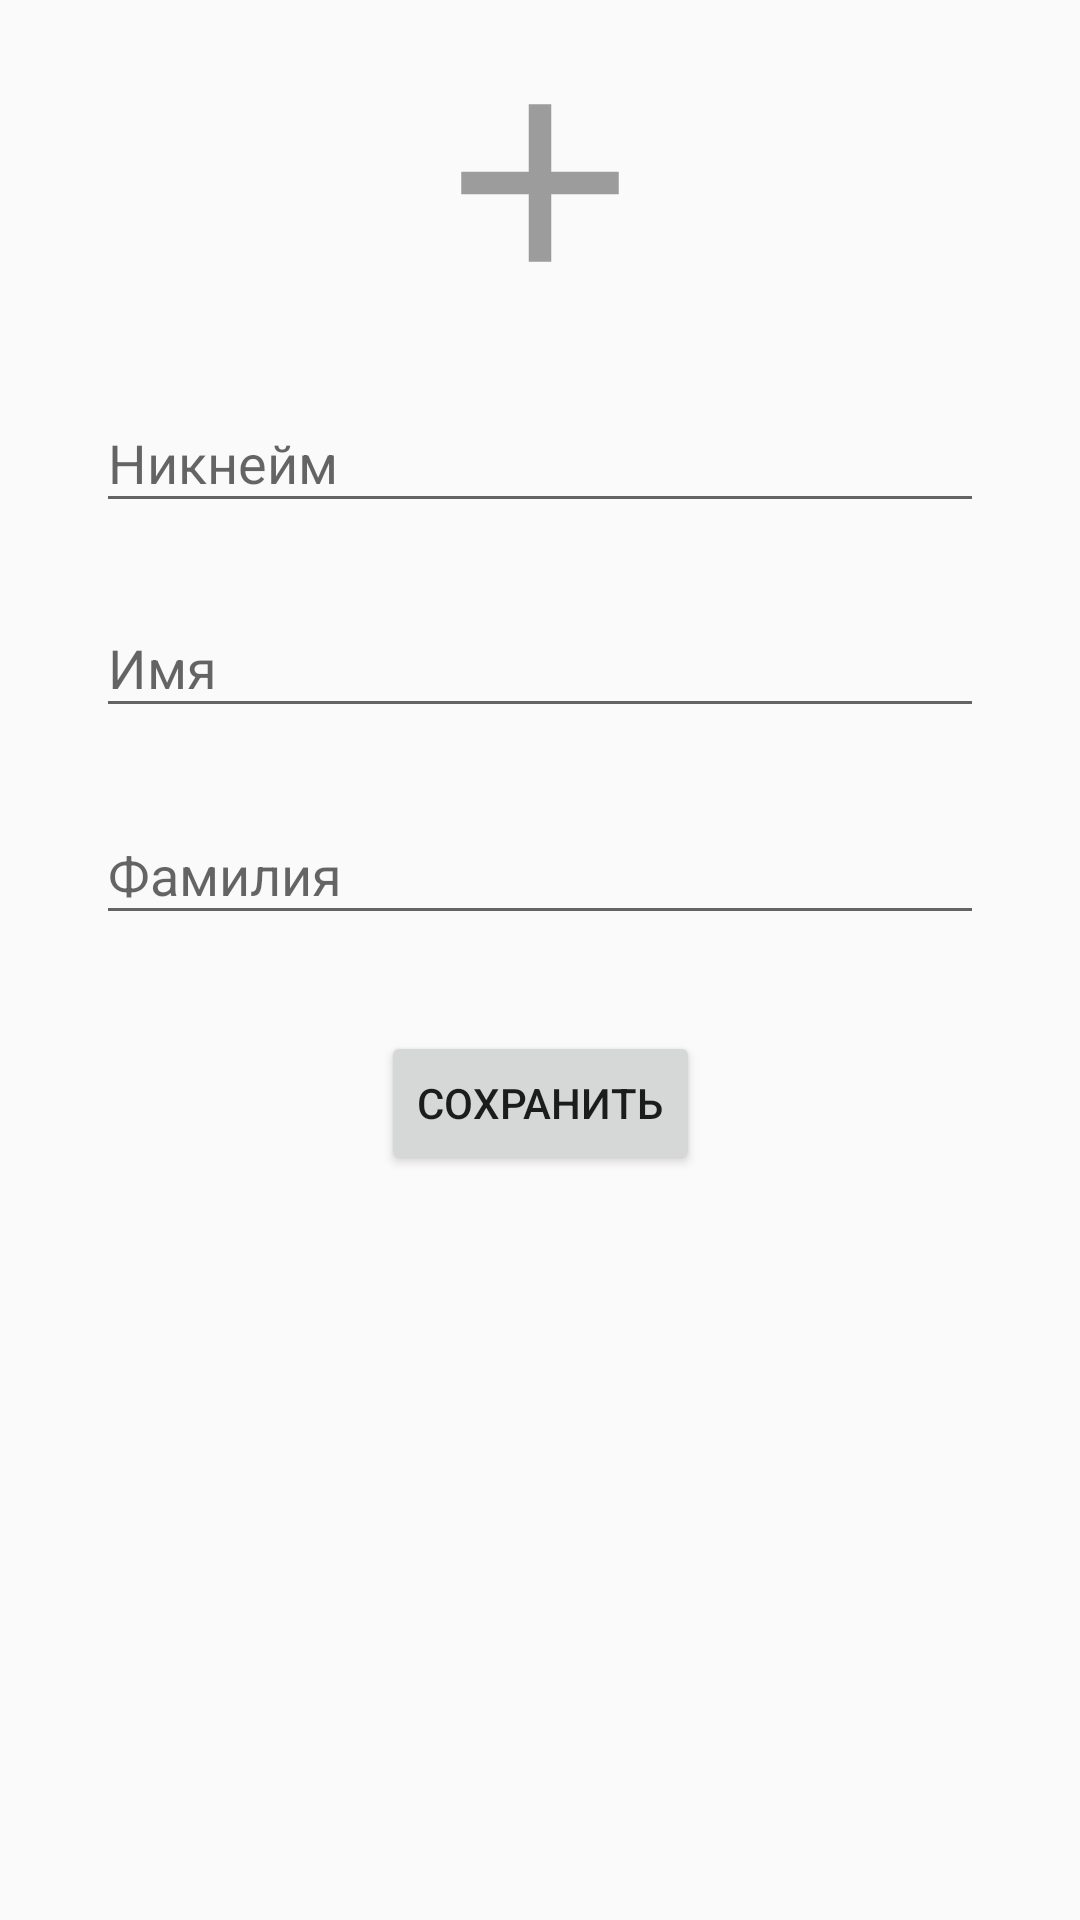

Screen size 1080px x 1920px. Icon name, then its box in pixels as region(x1, y1, x2, y2):
add: region(461, 104, 619, 262)
